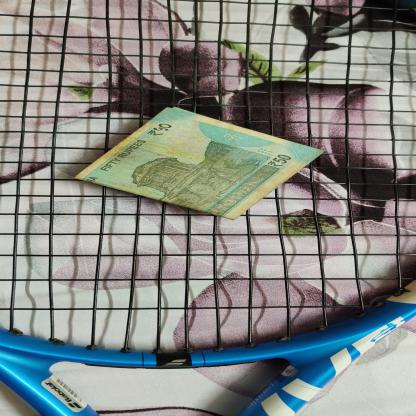New50Back: (75, 108, 324, 220)
